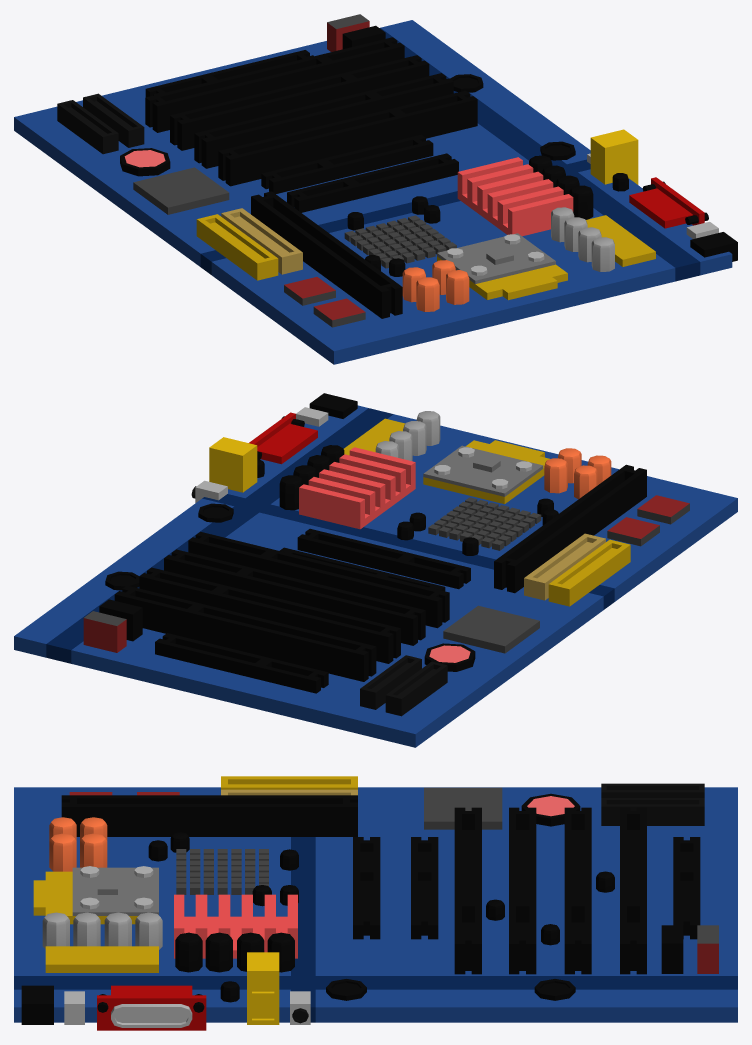
The model's file is Motherboard_01.glb.
3 renders of one model, top to bottom at view 1: azimuth 30°, elevation 25°; view 2: azimuth 150°, elevation 25°; view 3: azimuth 270°, elevation 25°, orthographic. The views are drawn at different scales.
Visible parts, largest first — view 1: Mesh_Motherboard_01; view 2: Mesh_Motherboard_01; view 3: Mesh_Motherboard_01.
Boxes of the visible parts, left/top/right/bottom form: Mesh_Motherboard_01: left=14, top=14, right=737, bottom=364; Mesh_Motherboard_01: left=14, top=393, right=737, bottom=747; Mesh_Motherboard_01: left=14, top=776, right=737, bottom=1030.
Size of the model in its own units: 0.3236 by 0.043 by 0.4344.
Materials: 1 (1 with a texture image).
